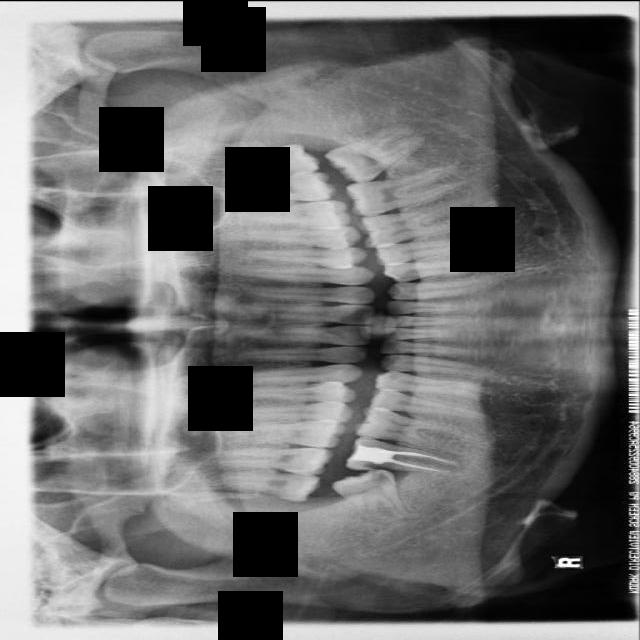3M ESPE Implant: (220, 461, 322, 504)
73: (391, 443, 466, 484), (545, 58, 556, 64)
BioHorizons Implant: (206, 170, 337, 200)
BioLife Implant: (210, 140, 322, 186)
Biomet 3i Implant: (321, 114, 434, 194)
Blue Sky Bio Implant: (344, 163, 468, 219)
Caries: (212, 447, 333, 475)
Implant: (344, 435, 406, 473)
Keystone Dental Implant: (329, 460, 409, 538)
